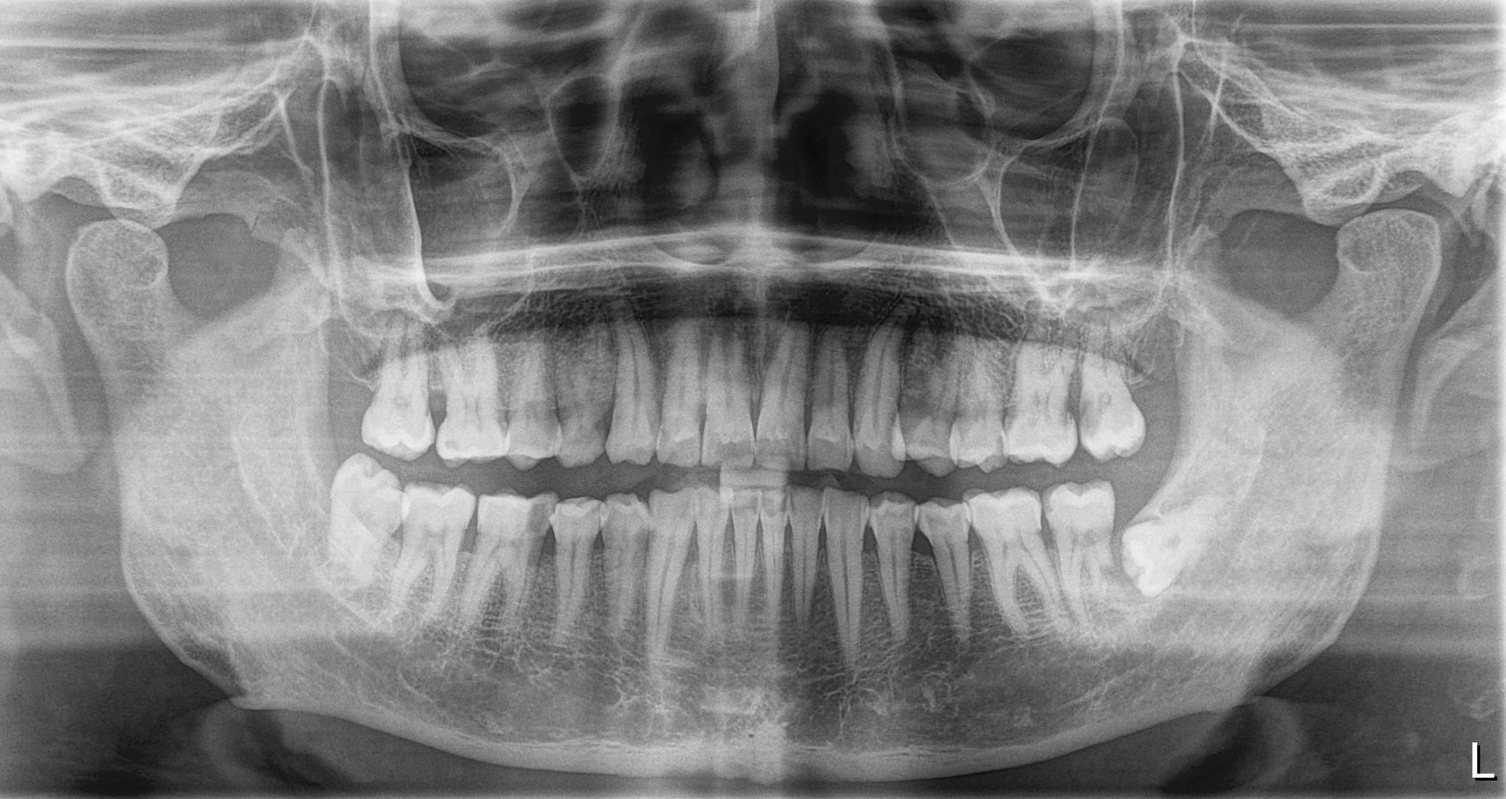Impacted Third Molar: (1121, 507, 1230, 600)
Missing Tooth: (325, 322, 379, 435), (1132, 334, 1185, 444)
